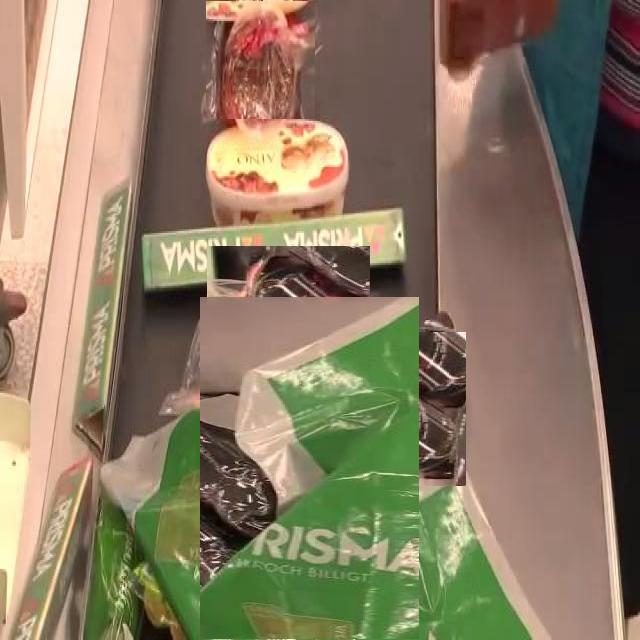beverage: (292, 325, 459, 493), (238, 305, 383, 451)
food-box: (200, 252, 377, 429), (206, 119, 360, 229), (206, 0, 316, 139)
utility-box: (141, 354, 477, 640)
